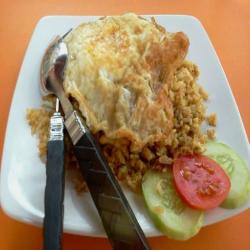omelette: (51, 17, 203, 160)
